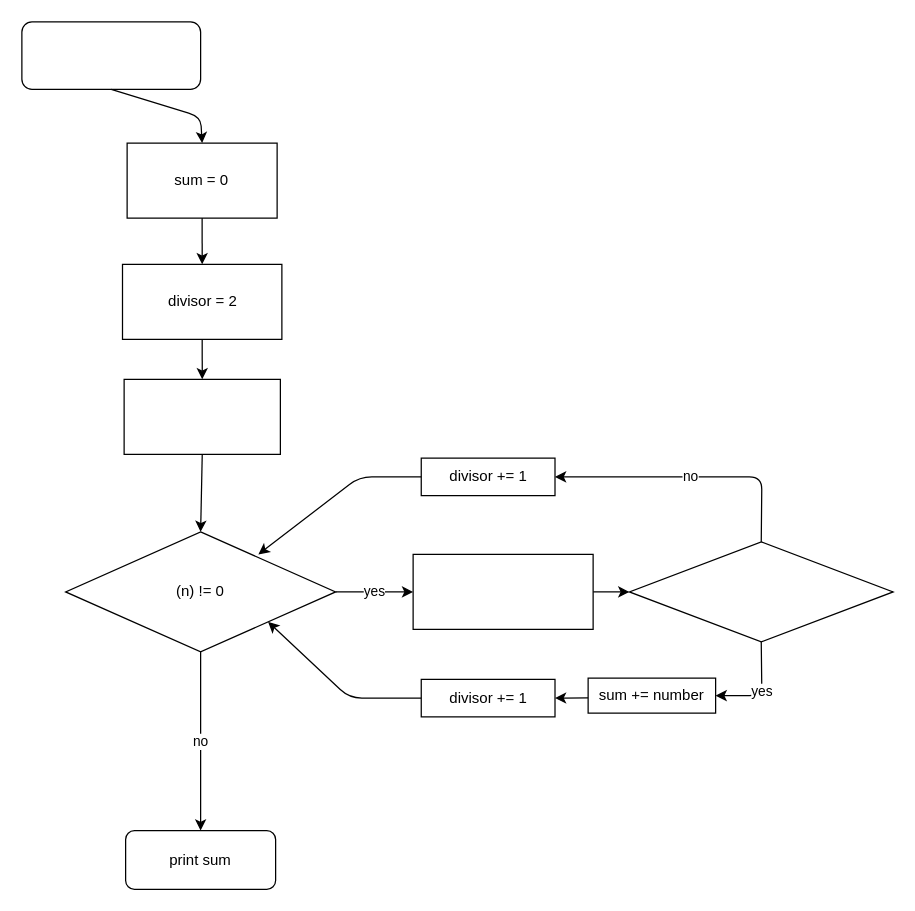
The diagram is 915 pixels wide and 911 high, and some of its shapes have lost their labels. Each missing label, with the centre of its shape:
"(n) = dividend // divisor" goes at (502,591).
"def sum_divisors(n):" goes at (111,55).
"dividend = n" goes at (201,416).
"if (n) * divisor == dividend" goes at (760,591).
